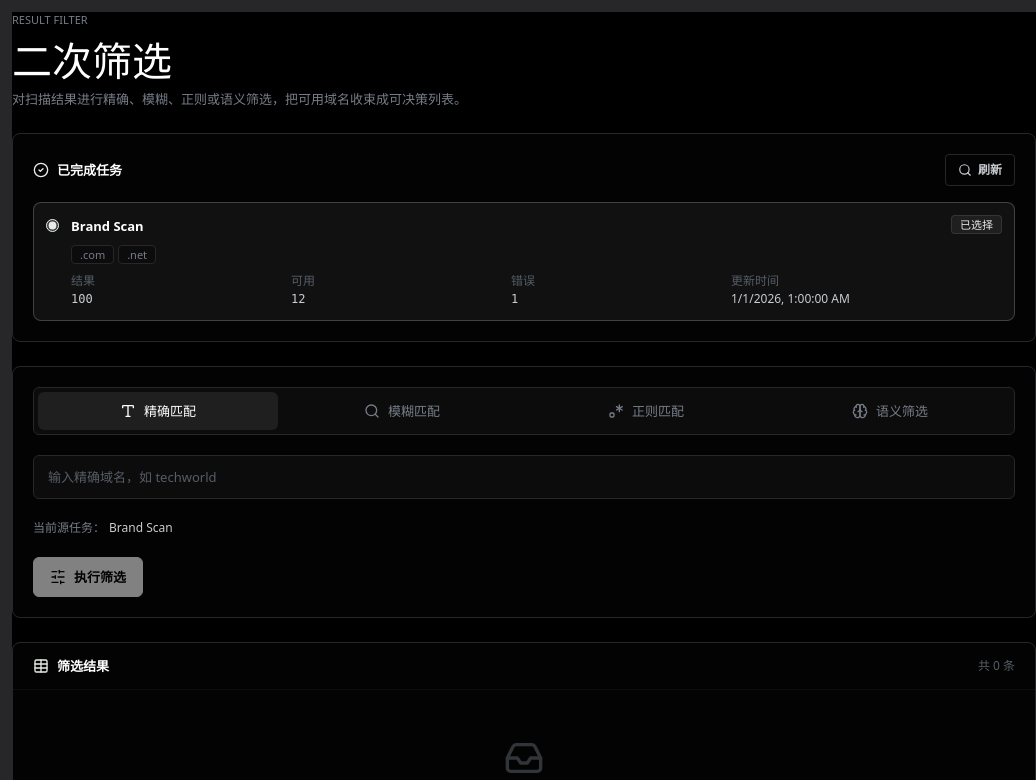
Scenario: FilterResults › runs the selected task through the active filter and renders matches
Expected: the text "Brand Scan" next to "已选择" is shown, [71,216,144,234]
In the field with placeholder "输入精确域名，如 techworld": (524, 477) [33,455,1015,499], type "acme.com"
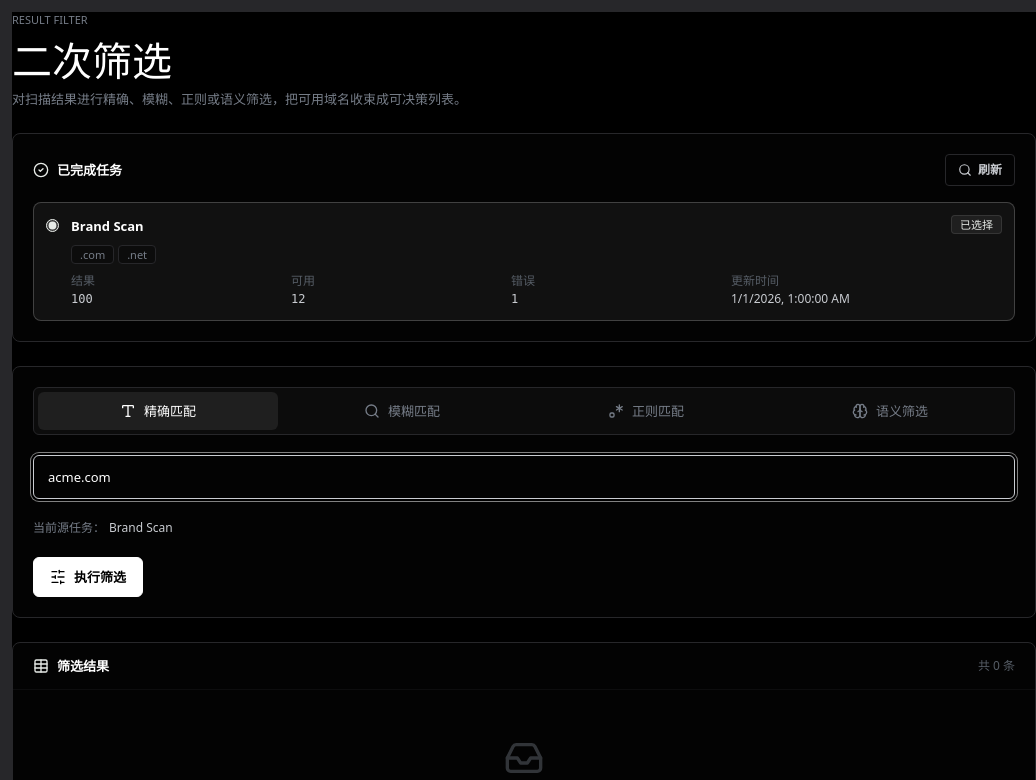
Click the button "执行筛选": (88, 577) [33,557,143,597]
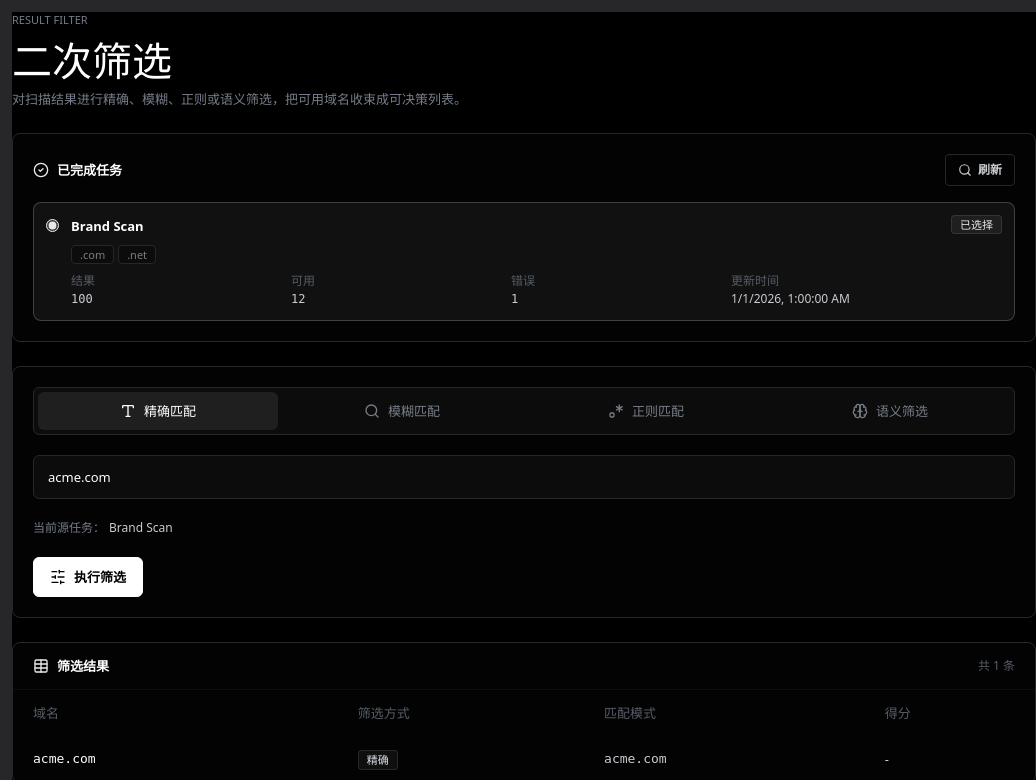
Result: the text "精确" is shown at [358,750,398,770]
